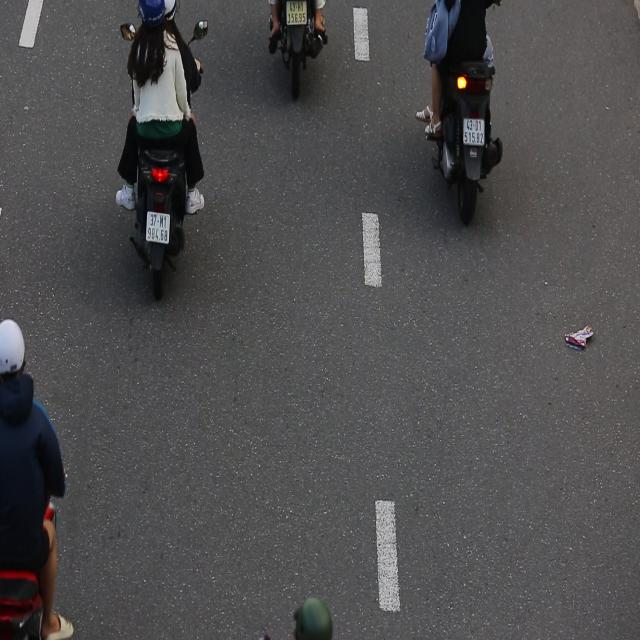motorbike: (113, 0, 212, 306)
